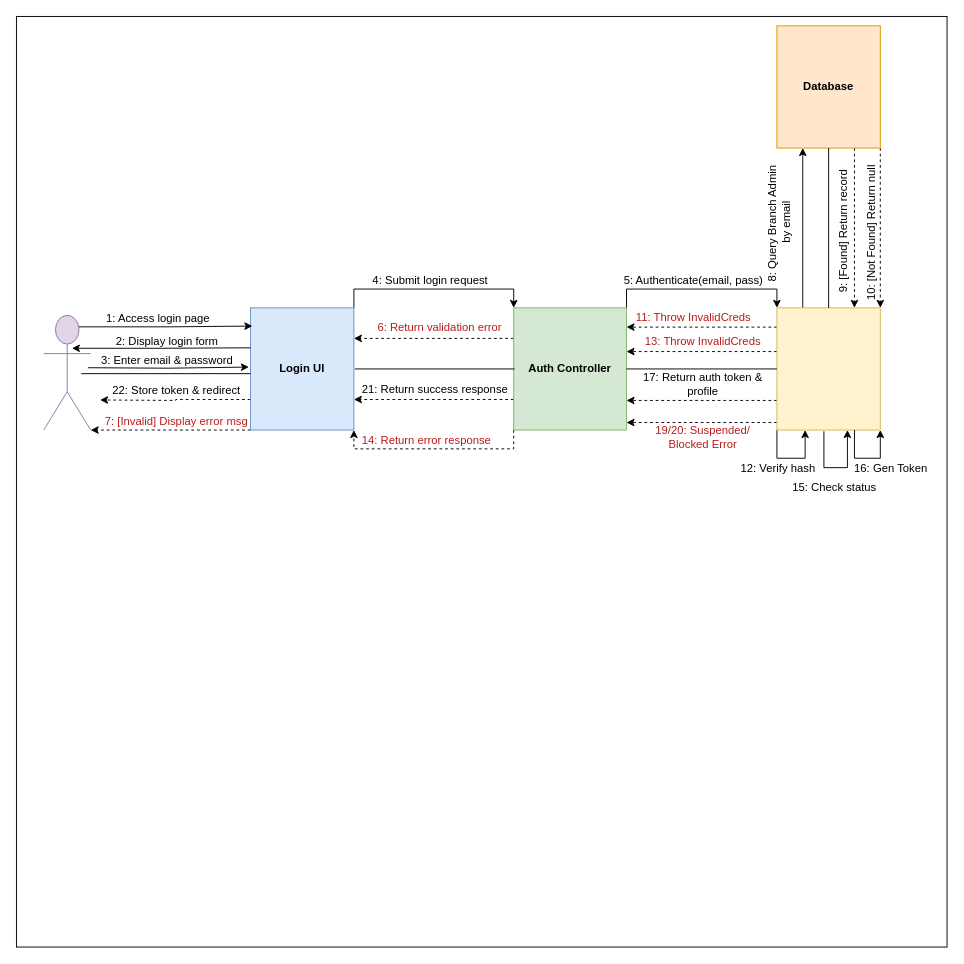
Some shapes in this 964 by 964 pixel diagram are drawn without their labels. The centre of each missing label's shape, as x and y in pixels:
"Auth Service" goes at point 828,368.
"Branch Admin" goes at point 67,372.
